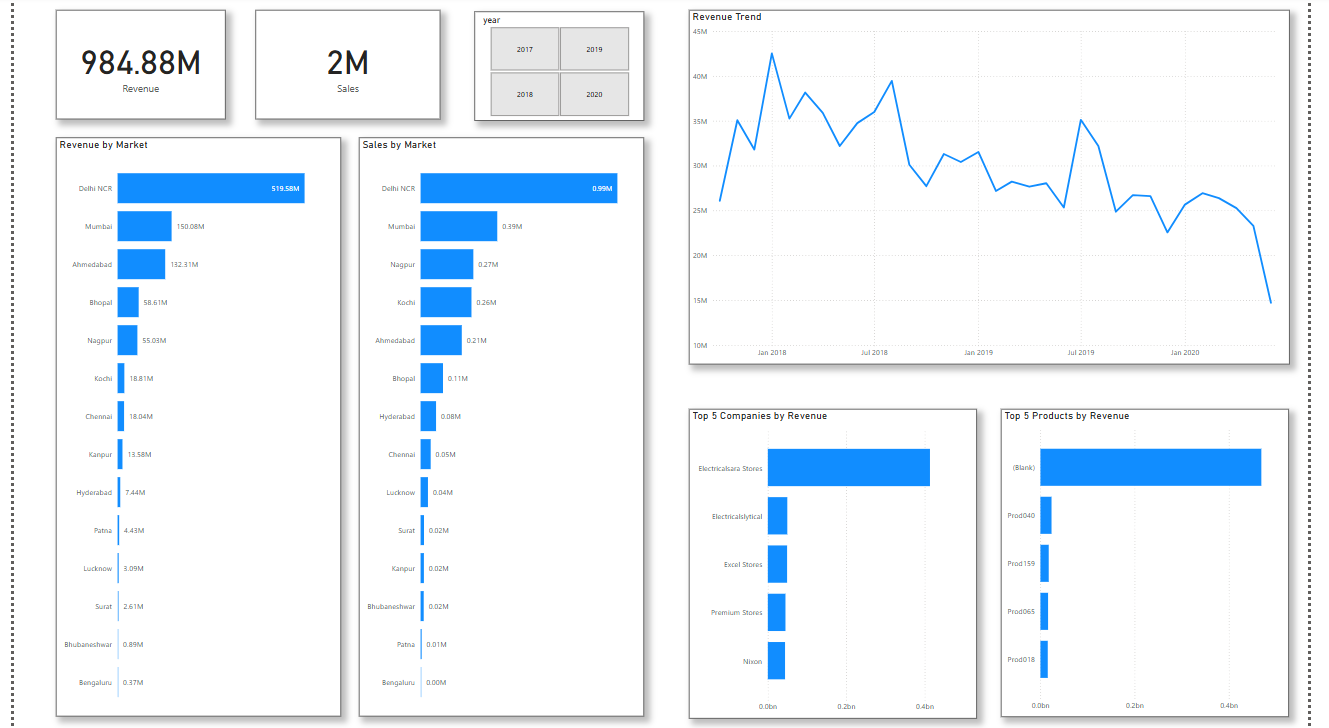

Layout of this report page (visuals, bound fields, positions):
{"tool":"powerbi","page":{"name":"Page 1","canvas":[2100,1200],"ordinal":0},"visuals":[{"type":"card","fields":{"Values":["BaseModule.Revunue"]},"box":[67.5,25,275,177.5],"z":0},{"type":"card","fields":{"Values":["BaseModule.Sales"]},"box":[392.5,25,300,177.5],"z":1000},{"type":"barChart","title":"Revenue by Market","fields":{"Y":["BaseModule.Revenue"],"Category":["sales markets.markets_name"]},"box":[67.5,232.5,462.5,940],"z":2000},{"type":"barChart","title":"Sales by Market","fields":{"Y":["BaseModule.Sales"],"Category":["sales markets.markets_name"]},"box":[560,232.5,462.5,940],"z":2001},{"type":"slicer","fields":{"Values":["sales date.year"]},"box":[747.5,27.5,275,177.5],"z":2002},{"type":"barChart","title":"Top 5 Companies by Revenue","fields":{"Category":["sales customers.custmer_name"],"Y":["BaseModule.Revenue"]},"box":[1095,672.5,467.5,502.5],"z":2004},{"type":"barChart","title":"Top 5 Products by Revenue","fields":{"Category":["sales products.product_code"],"Y":["BaseModule.Revenue"]},"box":[1602.5,672.5,467.5,500],"z":2005},{"type":"lineChart","title":"Revenue Trend","fields":{"Y":["BaseModule.Revenue"],"Category":["sales date.cy_date.Variation.Date Hierarchy.Year","sales date.cy_date.Variation.Date Hierarchy.Quarter","sales date.cy_date.Variation.Date Hierarchy.Month","sales date.cy_date.Variation.Date Hierarchy.Day"]},"box":[1095,25,975,575],"z":2006}]}

Visuals, with their boxes in screenshot pixels (x1, y1, x2, y2):
card - BaseModule.Revunue: detection(52, 5, 222, 115)
card - BaseModule.Sales: detection(253, 5, 439, 115)
"Revenue by Market" barChart: detection(52, 134, 339, 716)
"Sales by Market" barChart: detection(357, 134, 644, 716)
slicer - sales date.year: detection(473, 7, 644, 117)
"Top 5 Companies by Revenue" barChart: detection(688, 406, 978, 717)
"Top 5 Products by Revenue" barChart: detection(1003, 406, 1292, 716)
"Revenue Trend" lineChart: detection(688, 5, 1292, 361)
